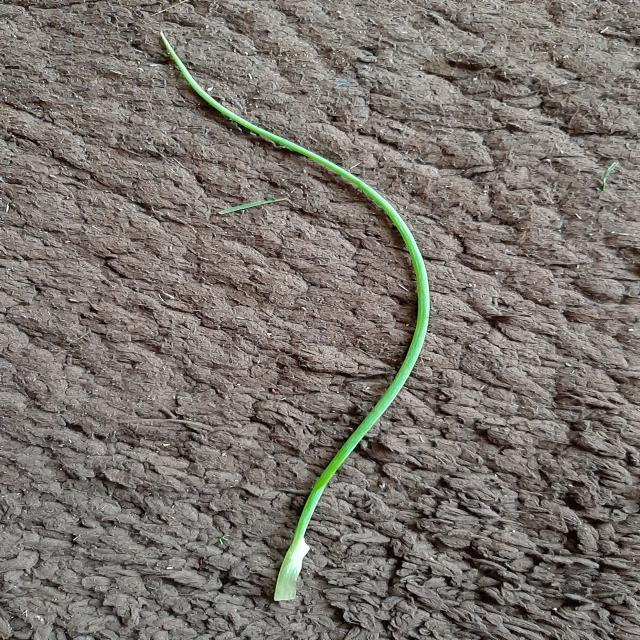onion: (160, 32, 431, 601)
